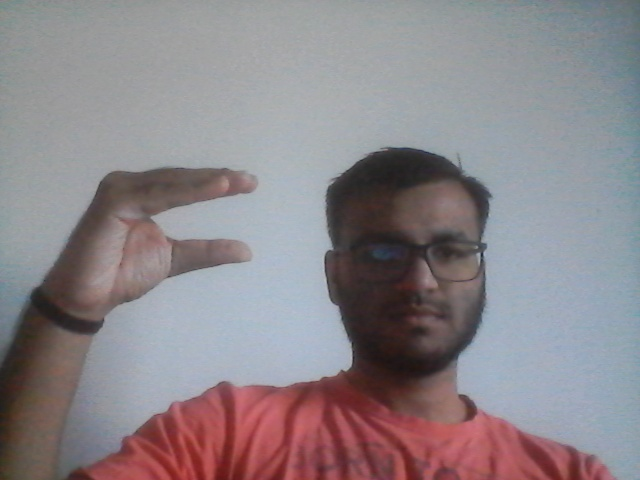No: (42, 162, 277, 305)
